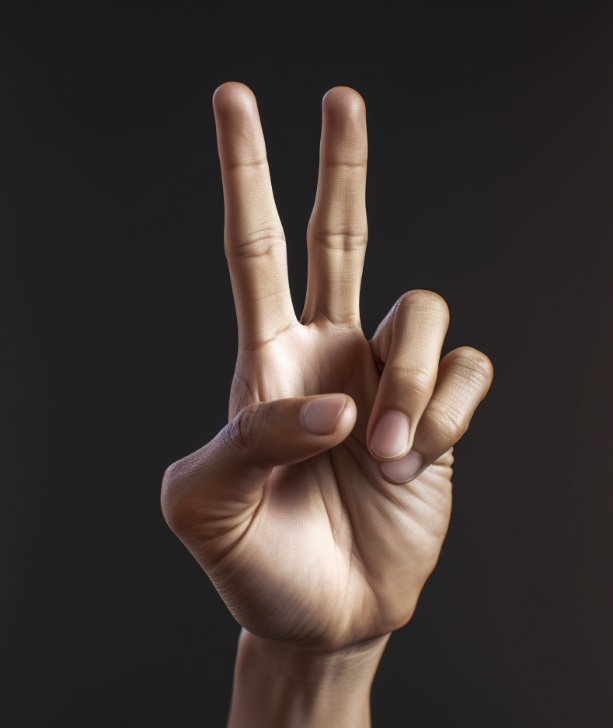peace: (159, 81, 494, 648)
